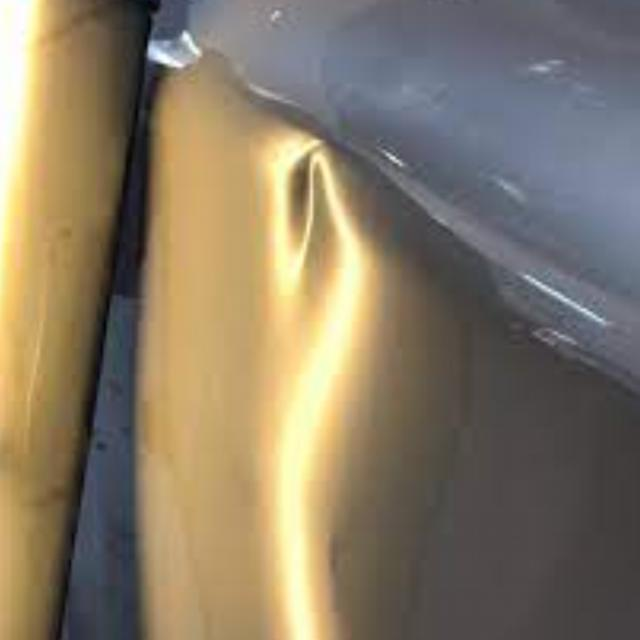dents: (270, 126, 352, 290)
